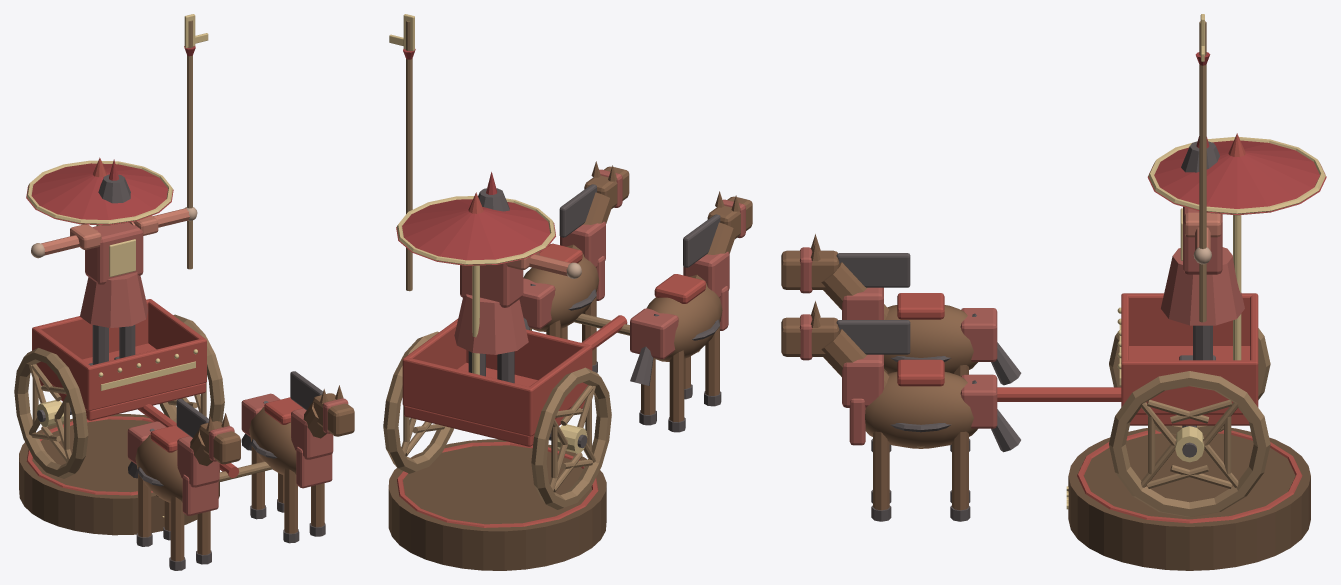
File: chariot_red.glb
The picture shows the model from 3 angles, left to right: view 1: azimuth 30°, elevation 25°; view 2: azimuth 150°, elevation 25°; view 3: azimuth 270°, elevation 25°; orthographic projection. The views are drawn at different scales.
Parts seen in each view (by area): view 1: base, c_canopy, c_front, c_wheel_L_rim, c_soldier_skirt, c_back, c_soldier_cuirass, c_horse_L_body, c_horse_R_body, c_side_-0.3, c_side_0.3, c_floor (+32 smaller); view 2: base, c_canopy, c_back, c_wheel_L_rim, c_soldier_skirt, c_wheel_R_rim, c_horse_L_body, c_horse_R_body, c_front, c_side_-0.3, c_soldier_cuirass, c_horse_L_armor_rump (+26 smaller); view 3: base, c_canopy, c_wheel_R_rim, c_horse_R_body, c_side_0.3, c_soldier_skirt, c_side_-0.3, c_horse_L_body, c_floor, c_horse_L_mane, c_horse_R_mane, base_trim_top (+25 smaller).
Part boxes in pixels (bbox=[...]): base: bbox=[19, 414, 219, 535]; c_canopy: bbox=[26, 163, 173, 224]; c_front: bbox=[90, 339, 205, 410]; c_wheel_L_rim: bbox=[14, 348, 88, 478]; c_soldier_skirt: bbox=[80, 272, 148, 327]; c_back: bbox=[35, 299, 150, 359]; c_soldier_cuirass: bbox=[85, 222, 143, 284]; c_horse_L_body: bbox=[135, 434, 182, 502]; c_horse_R_body: bbox=[249, 407, 296, 474]; c_side_-0.3: bbox=[32, 326, 92, 411]; c_side_0.3: bbox=[148, 299, 206, 382]; c_floor: bbox=[39, 343, 205, 420]; base: bbox=[388, 439, 606, 570]; c_canopy: bbox=[396, 199, 555, 265]; c_back: bbox=[404, 358, 530, 435]; c_wheel_L_rim: bbox=[531, 367, 611, 509]; c_soldier_skirt: bbox=[454, 294, 528, 354]; c_wheel_R_rim: bbox=[383, 331, 453, 473]; c_horse_L_body: bbox=[647, 286, 722, 361]; c_horse_R_body: bbox=[523, 256, 598, 331]; c_front: bbox=[466, 329, 587, 379]; c_side_-0.3: bbox=[527, 344, 592, 436]; c_soldier_cuirass: bbox=[460, 263, 523, 307]; c_horse_L_armor_rump: bbox=[630, 308, 678, 359]; base: bbox=[1068, 428, 1310, 570]; c_canopy: bbox=[1147, 140, 1326, 214]; c_wheel_R_rim: bbox=[1109, 371, 1270, 517]; c_horse_R_body: bbox=[865, 371, 977, 448]; c_side_0.3: bbox=[1121, 360, 1258, 414]; c_soldier_skirt: bbox=[1161, 247, 1244, 325]; c_side_-0.3: bbox=[1121, 293, 1257, 345]; c_horse_L_body: bbox=[884, 305, 977, 373]; c_floor: bbox=[1129, 346, 1250, 425]; c_horse_L_mane: bbox=[836, 253, 910, 287]; c_horse_R_mane: bbox=[836, 320, 910, 354]; base_trim_top: bbox=[1077, 430, 1302, 523].
Size of the model in its own units: 0.964 by 2.29 by 2.07.
